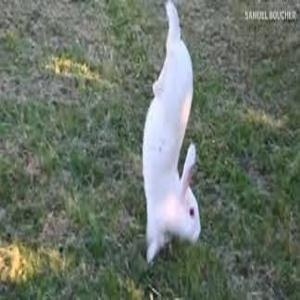rabbit: (142, 0, 200, 262)
